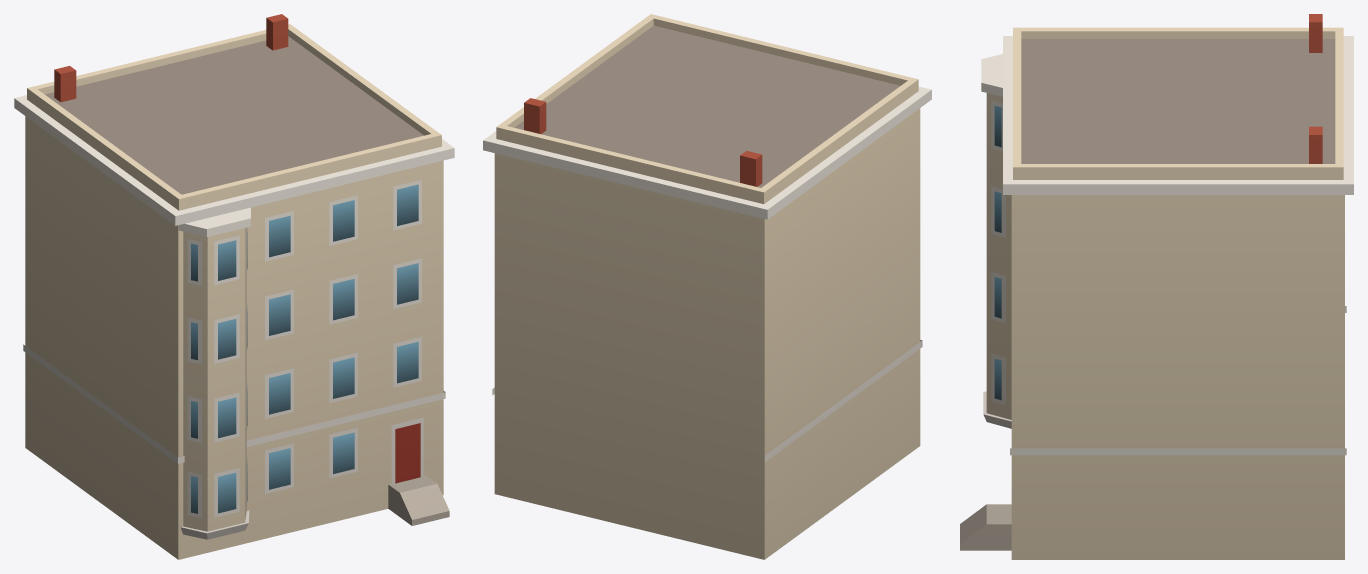
File: tremont_n5_far.glb
The picture shows the model from 3 angles, left to right: view 1: azimuth 30°, elevation 25°; view 2: azimuth 150°, elevation 25°; view 3: azimuth 270°, elevation 25°; orthographic projection. The views are drawn at different scales.
Visible parts, largest first — view 1: tremont_n5_far; view 2: tremont_n5_far; view 3: tremont_n5_far.
Part boxes in pixels (left/top/right/bottom): tremont_n5_far: left=14, top=14, right=454, bottom=559; tremont_n5_far: left=483, top=14, right=931, bottom=559; tremont_n5_far: left=960, top=14, right=1353, bottom=559.
Size of the model in its own units: 12.64 by 16.49 by 14.18.
1 material, 1 textured.
